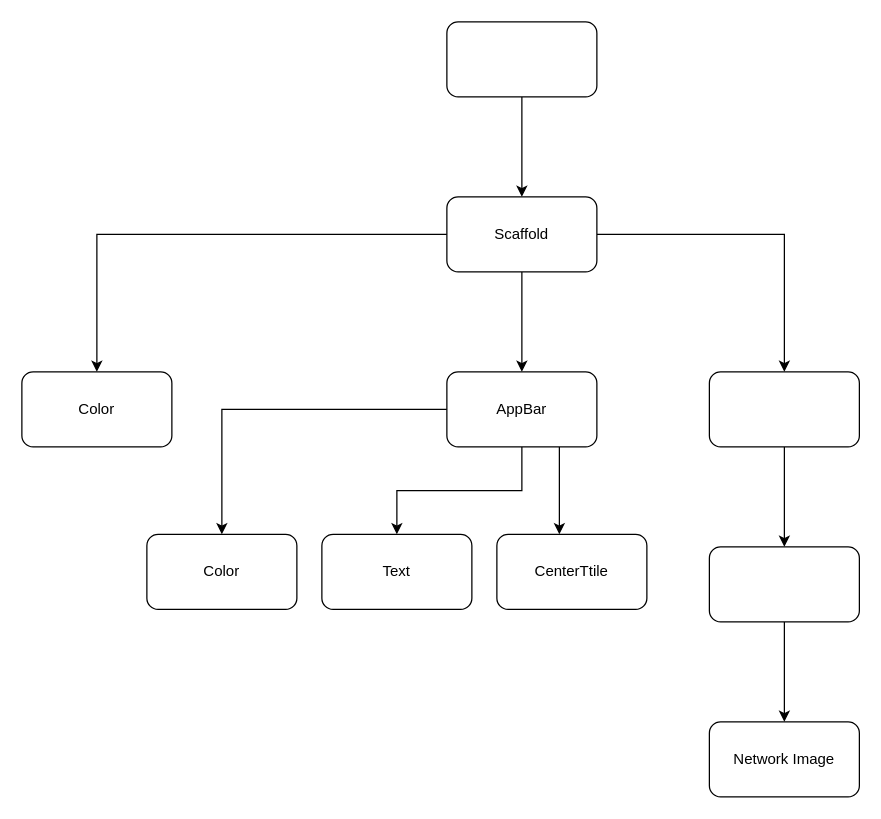
This 881x819 diagram has some shape labels left out. The box of each missing label's shape, as (x1, y1, x2, y2) in pixels:
Center: (708, 371, 859, 447)
Image: (708, 546, 859, 622)
Material App: (446, 21, 597, 97)
